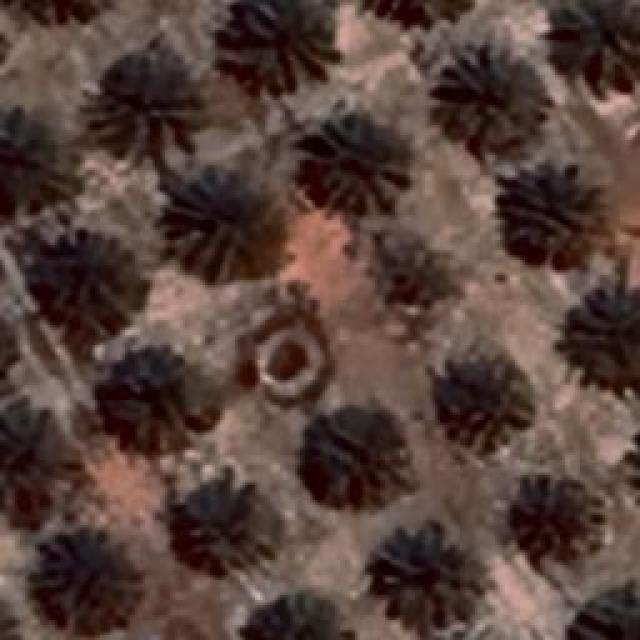PalmTree: (430, 38, 545, 152), (302, 110, 416, 215), (220, 0, 340, 95), (176, 175, 279, 285), (28, 536, 140, 629), (500, 166, 598, 266), (366, 528, 469, 618), (108, 354, 210, 444), (308, 408, 402, 504), (95, 54, 190, 148), (437, 354, 535, 444), (38, 245, 132, 338), (547, 0, 635, 95), (178, 486, 280, 564), (555, 294, 640, 383), (0, 410, 75, 508), (512, 478, 602, 556), (0, 124, 60, 208), (248, 590, 336, 640), (2, 0, 122, 31), (359, 0, 478, 31), (580, 585, 640, 640), (616, 420, 640, 507), (0, 596, 27, 640)
